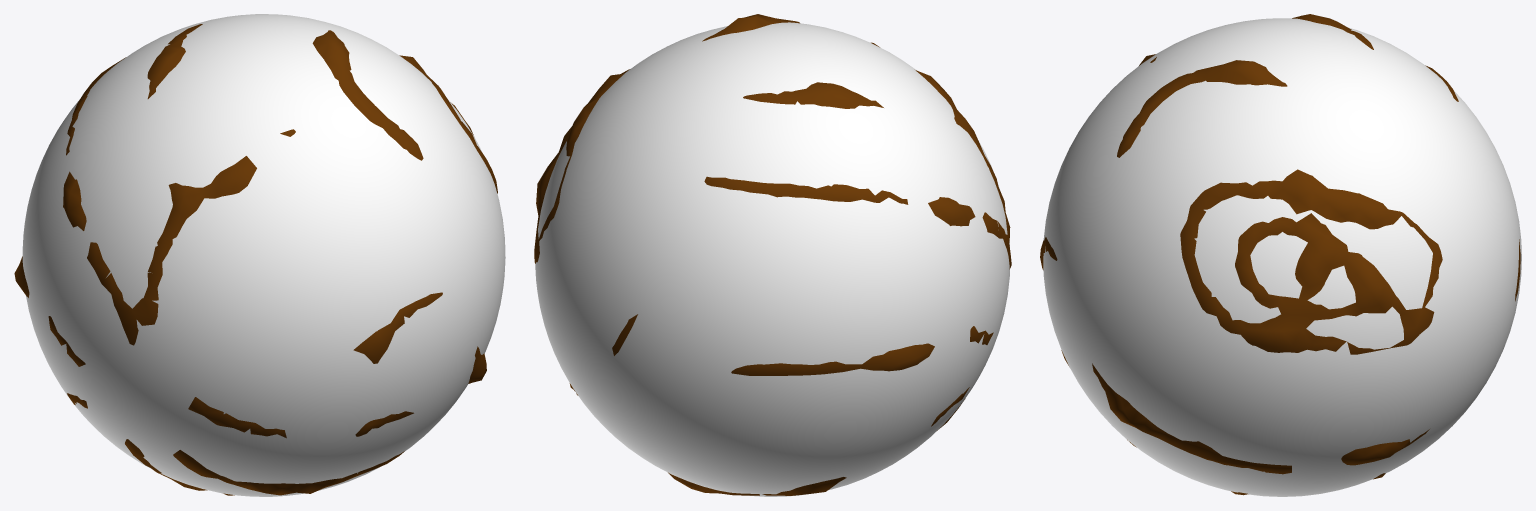
File: planet 7.4.glb
The picture shows the model from 3 angles, left to right: view 1: azimuth 30°, elevation 25°; view 2: azimuth 150°, elevation 25°; view 3: azimuth 270°, elevation 25°; orthographic projection.
Parts seen in each view (by area): view 1: Icosphere, Icosphere.001; view 2: Icosphere, Icosphere.001; view 3: Icosphere, Icosphere.001.
Boxes of the visible parts, box(x1,y1,x2,y2) form: Icosphere: box(22, 14, 505, 496); Icosphere.001: box(14, 24, 497, 495); Icosphere: box(535, 22, 1009, 496); Icosphere.001: box(534, 14, 1011, 495); Icosphere: box(1043, 18, 1521, 496); Icosphere.001: box(1040, 14, 1520, 495).
Size of the model in its own units: 609 by 605 by 604.
